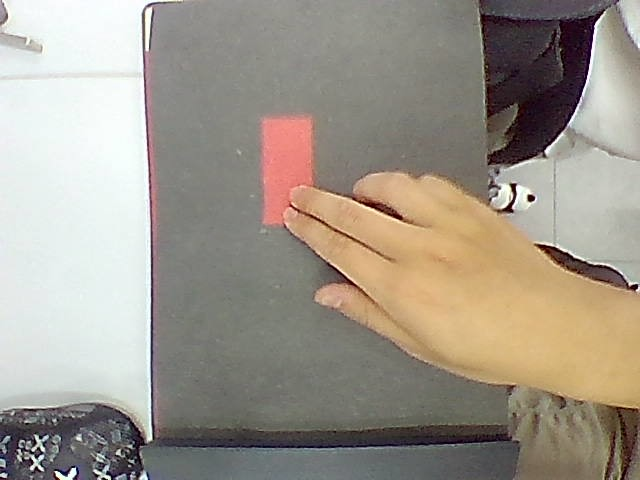card: (262, 116, 312, 224)
